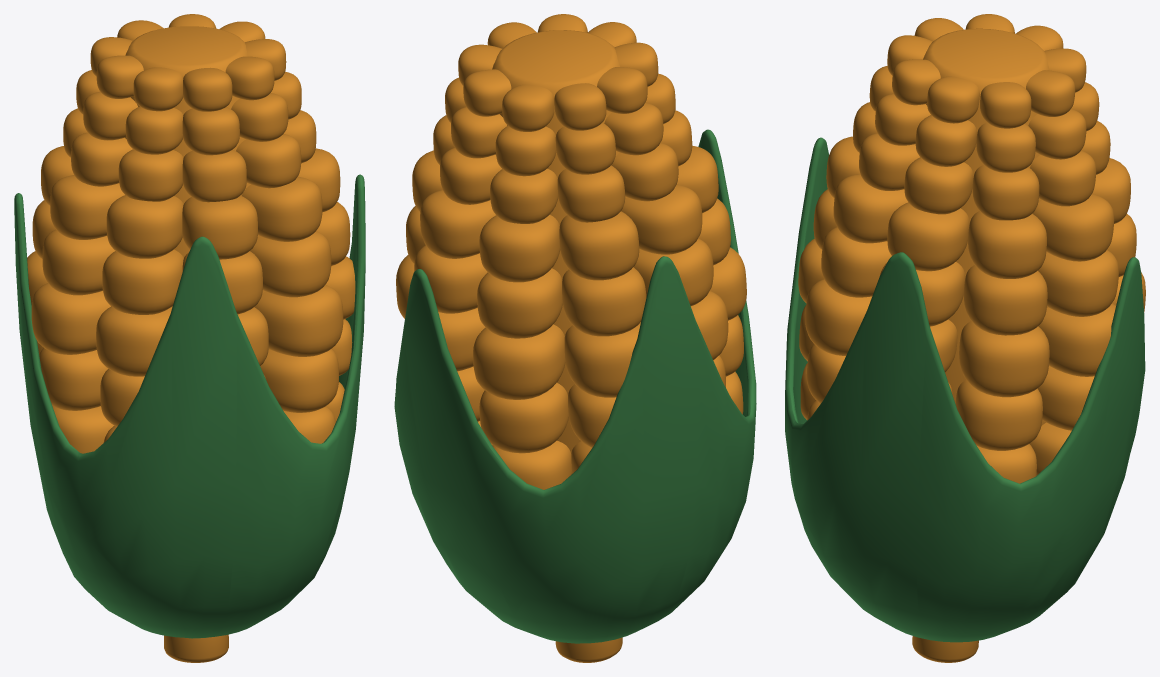
File: corn11.glb
3 renders of one model, left to right at view 1: azimuth 30°, elevation 25°; view 2: azimuth 150°, elevation 25°; view 3: azimuth 270°, elevation 25°, orthographic. The views are drawn at different scales.
Parts seen in each view (by area): view 1: Sphere.041, Cylinder.110, Cube.074, Cube.063, Cube.054, Cube.071, Cube.065, Cube.083, Cube.056, Cube.072, Cube.055, Cube.062 (+35 smaller); view 2: Sphere.041, Cylinder.110, Cube.069, Cube.060, Cube.078, Cube.061, Cube.051, Cube.052, Cube.053, Cube.070, Cube.050, Cube.114 (+35 smaller); view 3: Sphere.041, Cylinder.110, Cube.067, Cube.058, Cube.076, Cube.049, Cube.048, Cube.059, Cube.050, Cube.068, Cube.056, Cube.065 (+34 smaller).
Boxes of the visible parts, left/top/right/bottom form: Sphere.041: left=14, top=174, right=365, bottom=638; Cylinder.110: left=125, top=26, right=269, bottom=350; Cube.074: left=254, top=285, right=343, bottom=356; Cube.063: left=102, top=249, right=183, bottom=314; Cube.054: left=106, top=195, right=183, bottom=258; Cube.071: left=31, top=283, right=110, bottom=354; Cube.065: left=250, top=231, right=331, bottom=297; Cube.083: left=260, top=348, right=338, bottom=412; Cube.056: left=241, top=176, right=322, bottom=241; Cube.072: left=96, top=306, right=172, bottom=376; Cube.055: left=182, top=195, right=257, bottom=259; Cube.062: left=42, top=229, right=115, bottom=295; Sphere.041: left=394, top=129, right=756, bottom=643; Cylinder.110: left=492, top=30, right=626, bottom=453; Cube.069: left=473, top=324, right=565, bottom=399; Cube.060: left=477, top=268, right=562, bottom=338; Cube.078: left=479, top=382, right=568, bottom=453; Cube.061: left=562, top=267, right=646, bottom=336; Cube.051: left=479, top=214, right=560, bottom=282; Cube.052: left=559, top=211, right=639, bottom=280; Cube.053: left=621, top=184, right=702, bottom=254; Cube.070: left=564, top=322, right=640, bottom=397; Cube.050: left=420, top=189, right=495, bottom=258; Cube.114: left=490, top=168, right=558, bottom=223; Sphere.041: left=785, top=137, right=1145, bottom=642; Cylinder.110: left=923, top=28, right=1049, bottom=425; Cube.067: left=959, top=321, right=1049, bottom=397; Cube.058: left=963, top=265, right=1047, bottom=335; Cube.076: left=955, top=380, right=1042, bottom=450; Cube.049: left=968, top=211, right=1046, bottom=278; Cube.048: left=887, top=202, right=969, bottom=271; Cube.059: left=1038, top=250, right=1118, bottom=316; Cube.050: left=1032, top=193, right=1114, bottom=261; Cube.068: left=1038, top=303, right=1115, bottom=376; Cube.056: left=833, top=174, right=907, bottom=243; Cube.065: left=821, top=227, right=891, bottom=297.
Bounding box in the file's own units: 1.6 × 3 × 1.61.
